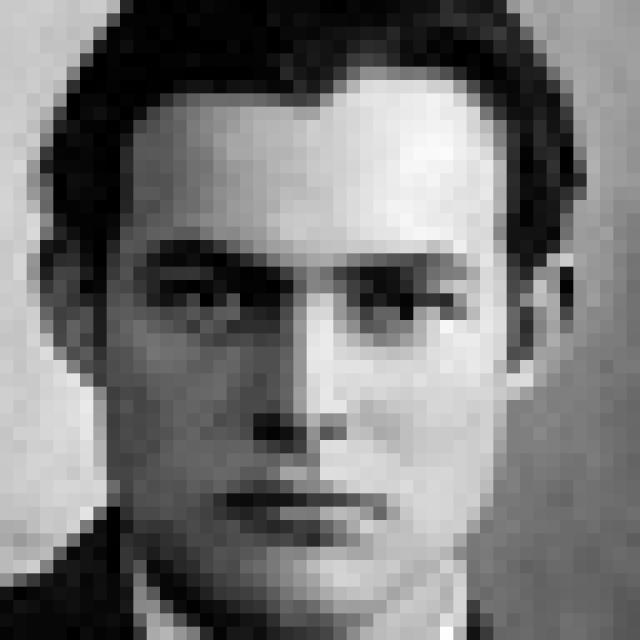neutral: (129, 222, 498, 556)
